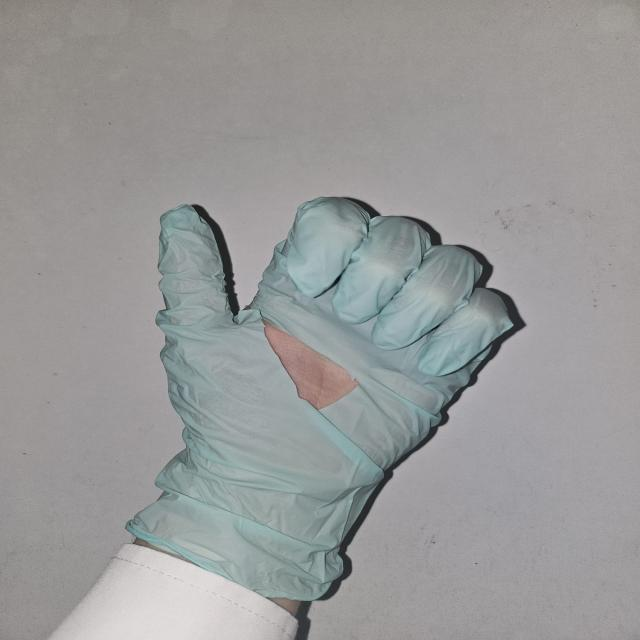gloves_damaged: (121, 194, 517, 608)
